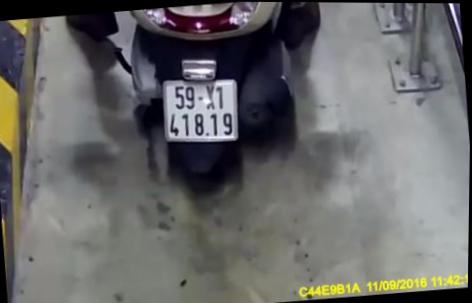LP: (161, 69, 247, 148)
